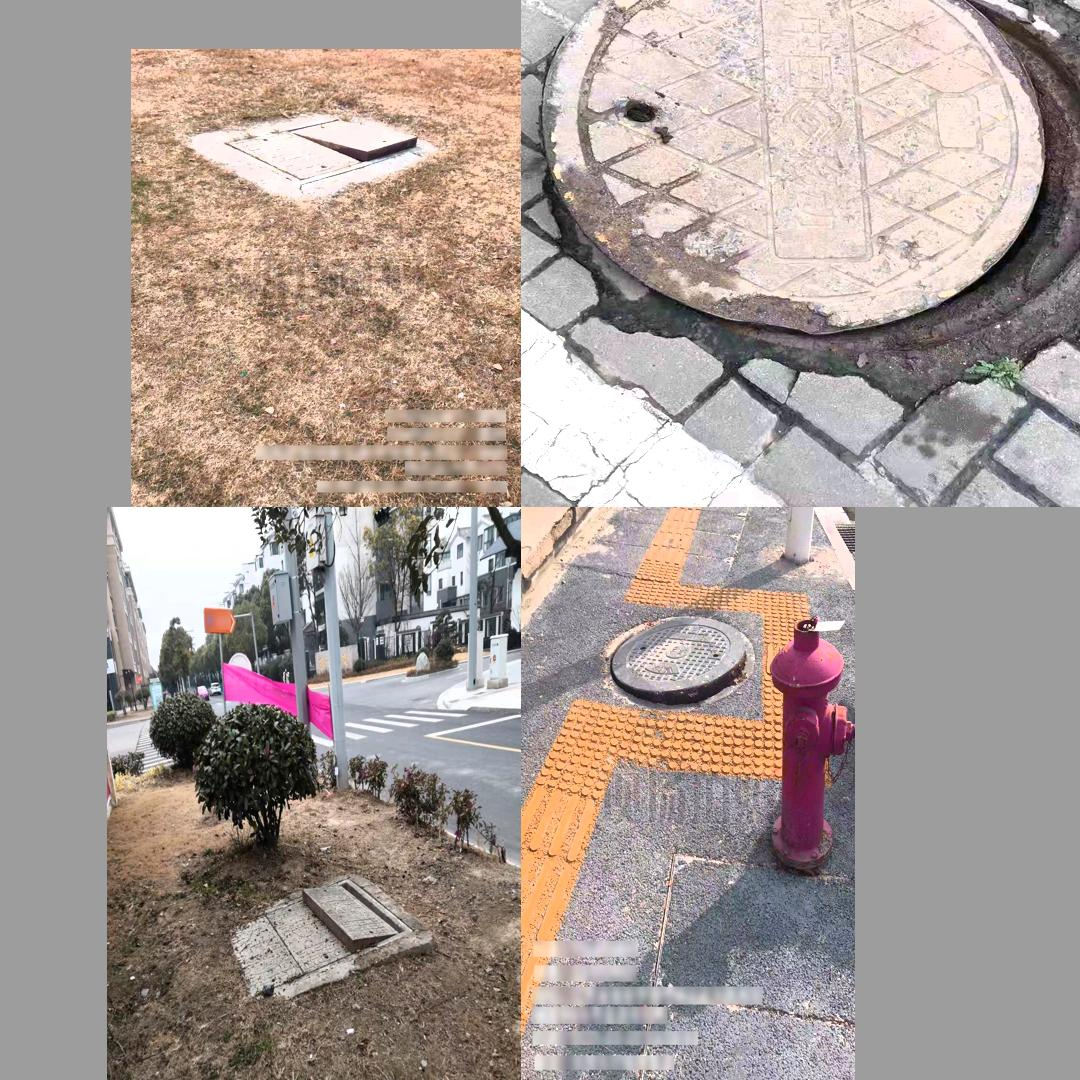uncovered: (544, 0, 1080, 352), (231, 879, 413, 1000), (606, 607, 762, 712), (223, 116, 419, 185)
